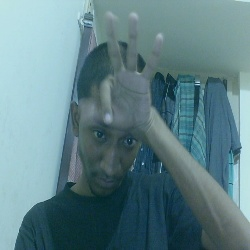hand: (99, 15, 163, 139)
